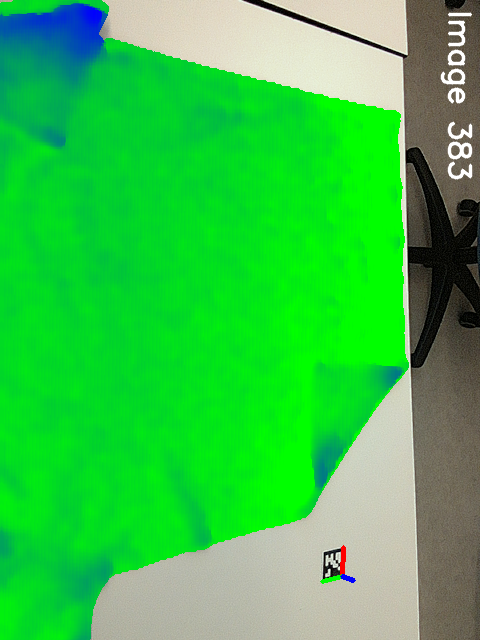V: (27, 115, 84, 157), (303, 346, 349, 397)
